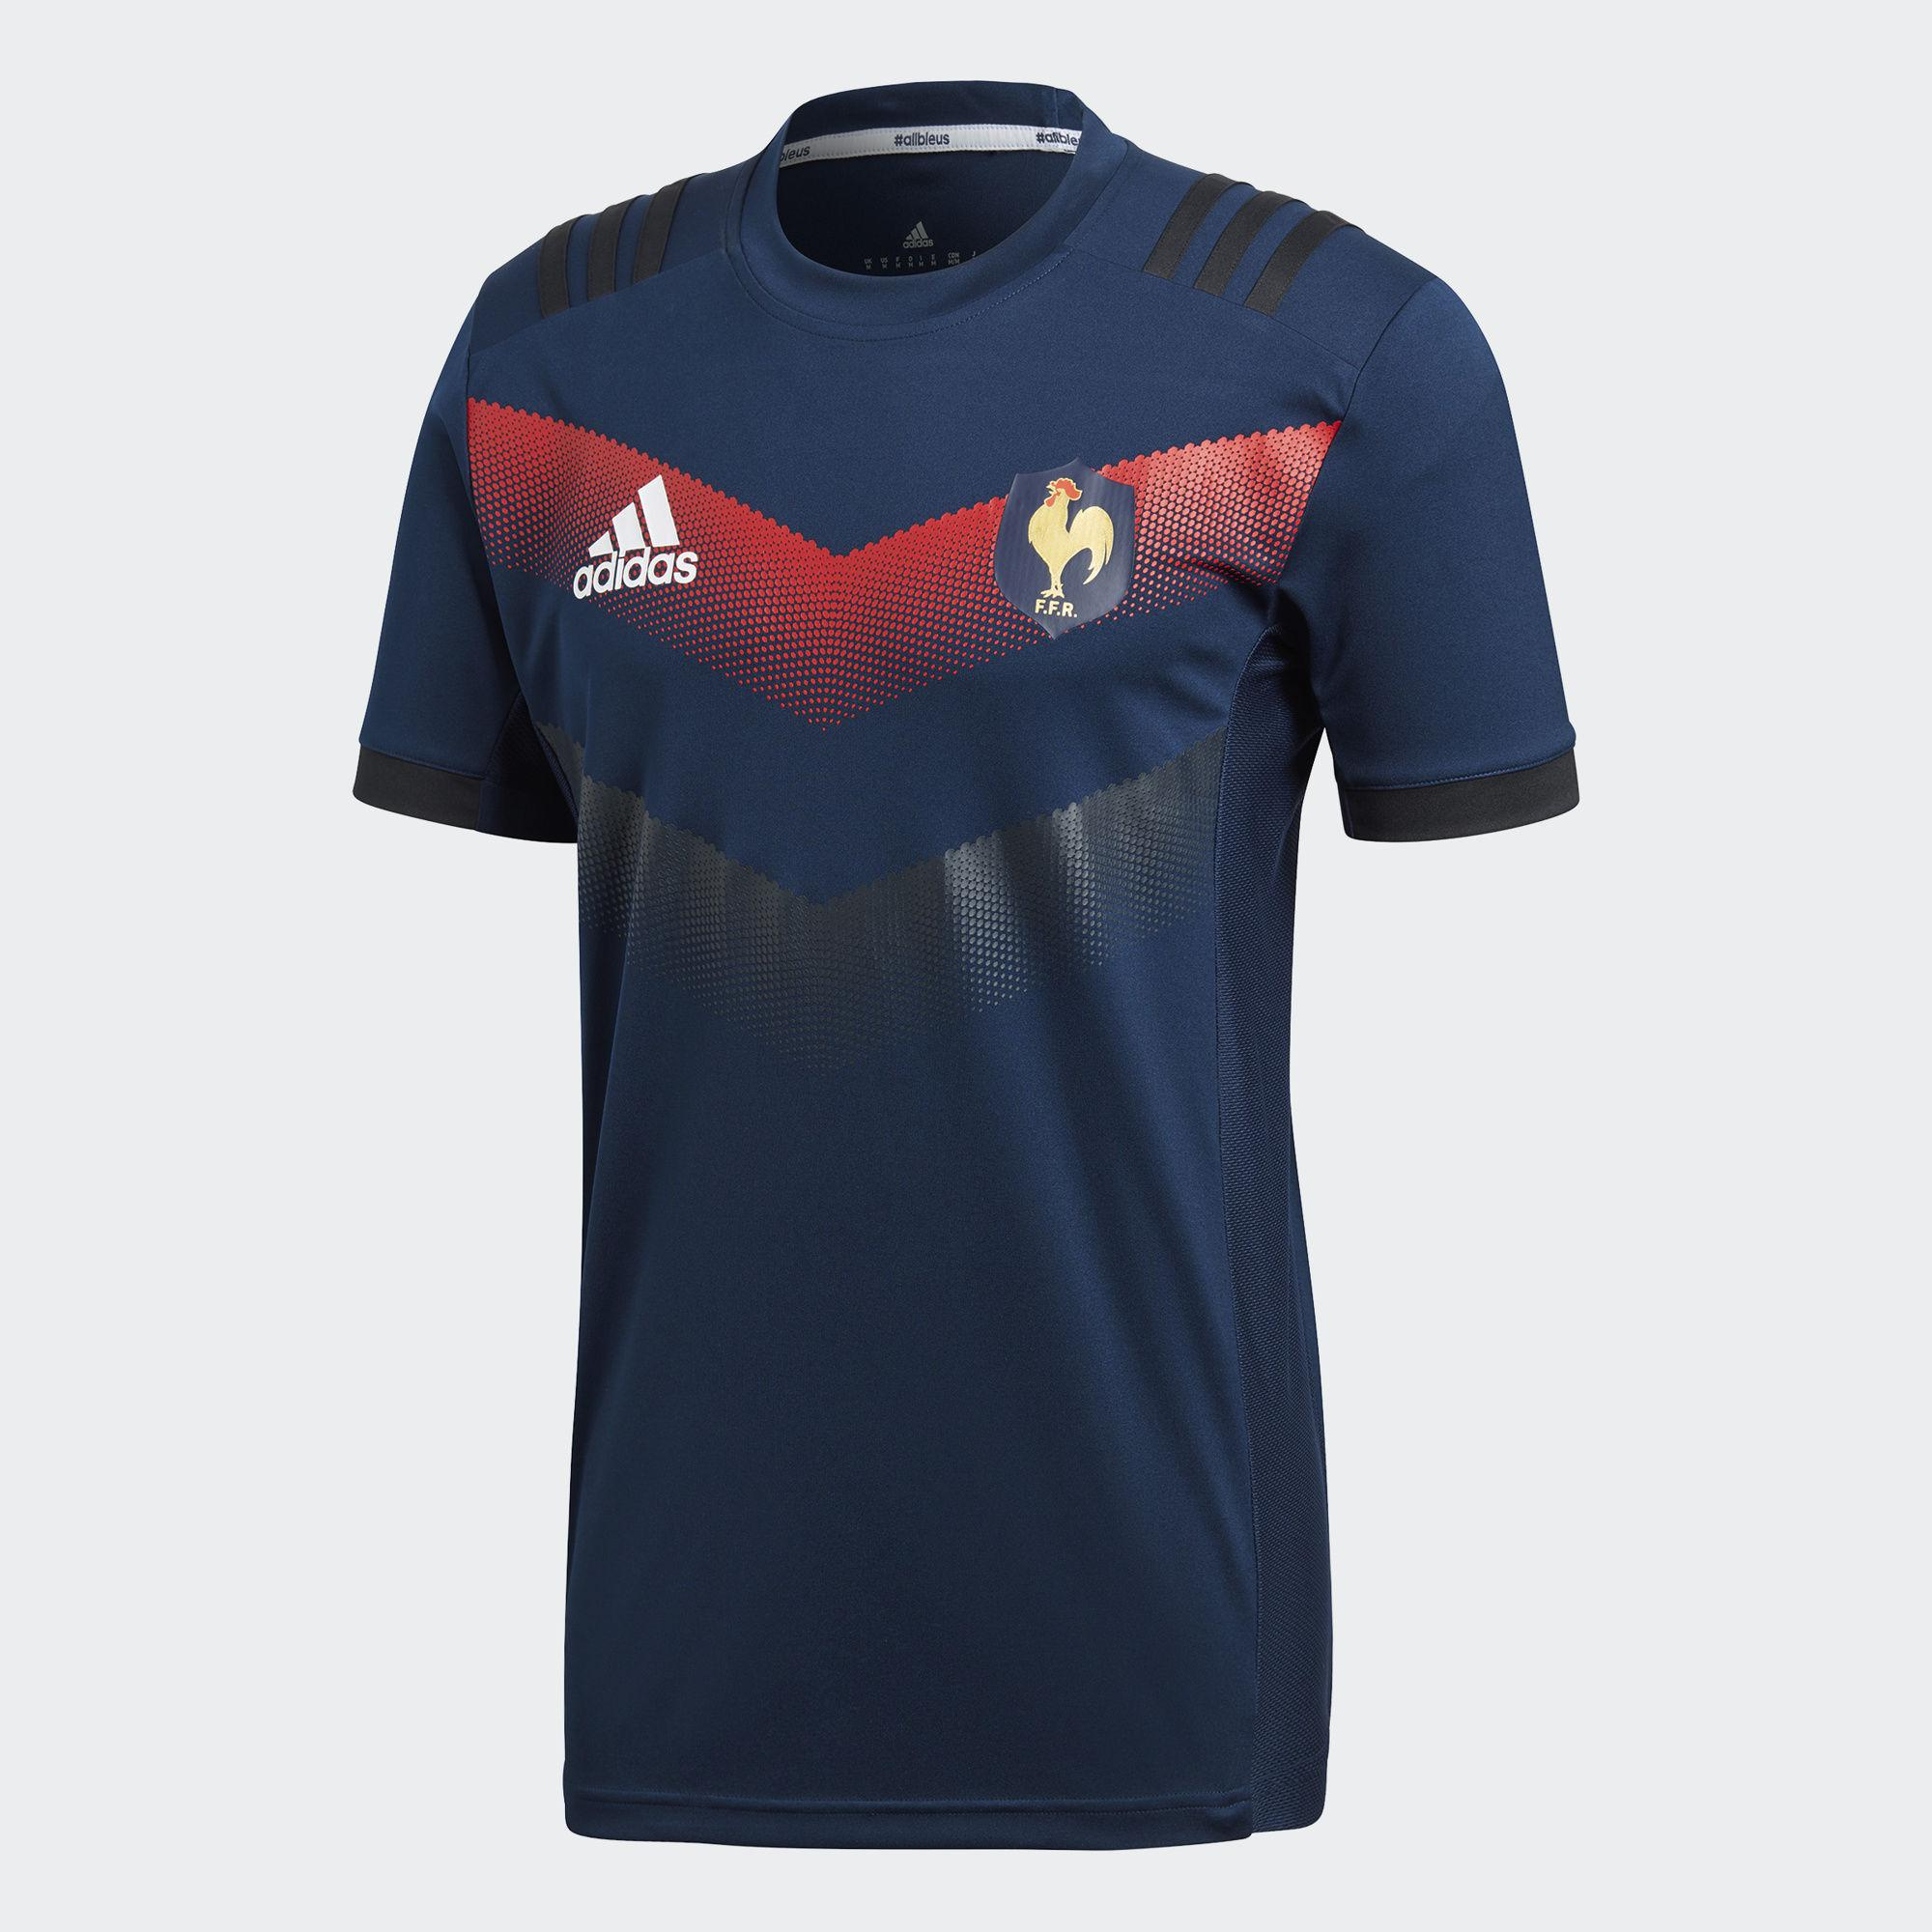teeshirt: (322, 73, 1629, 1882)
